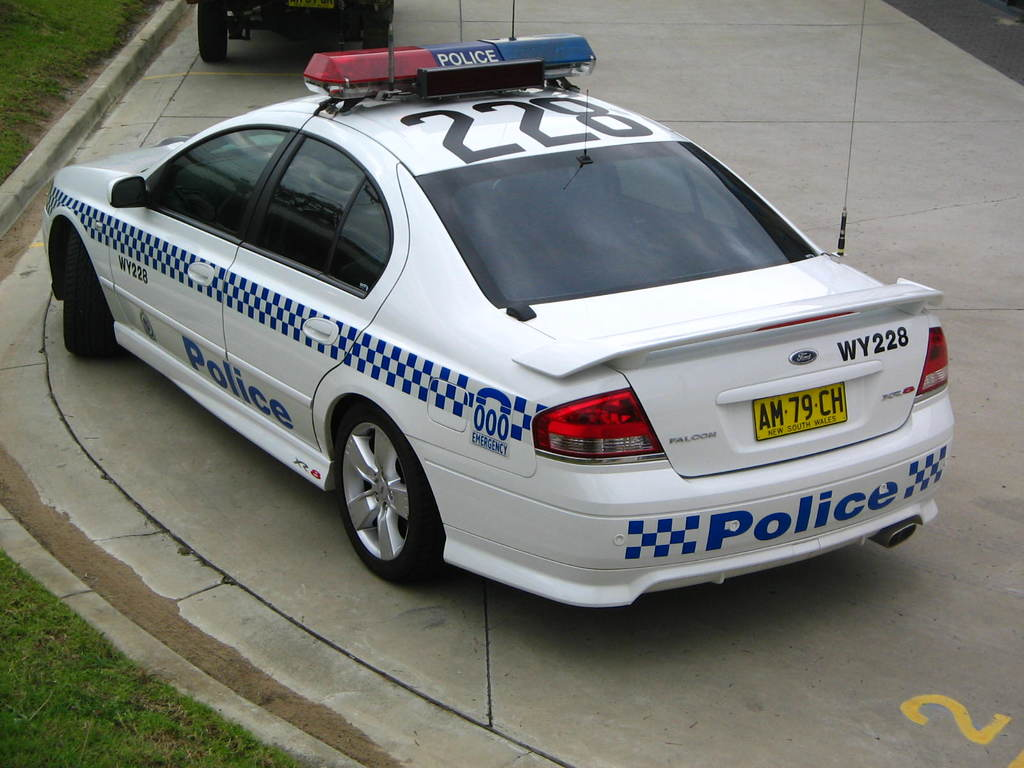Car: (23, 58, 981, 609), (202, 0, 387, 60)
